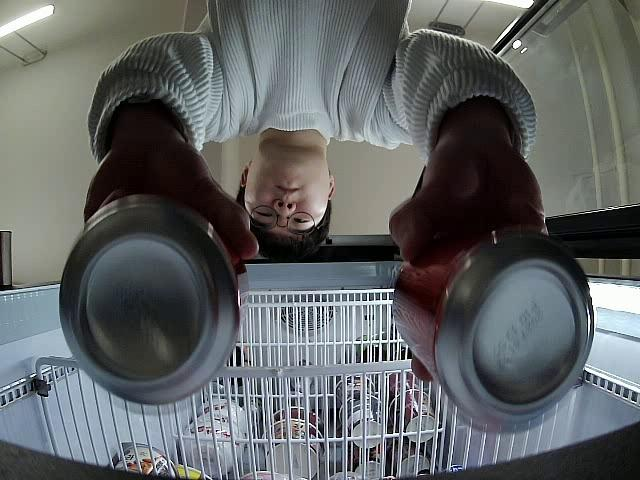00_hand: (82, 141, 261, 261), (386, 136, 551, 261)
11_cocaColaZero: (389, 231, 593, 434), (59, 191, 250, 403)
